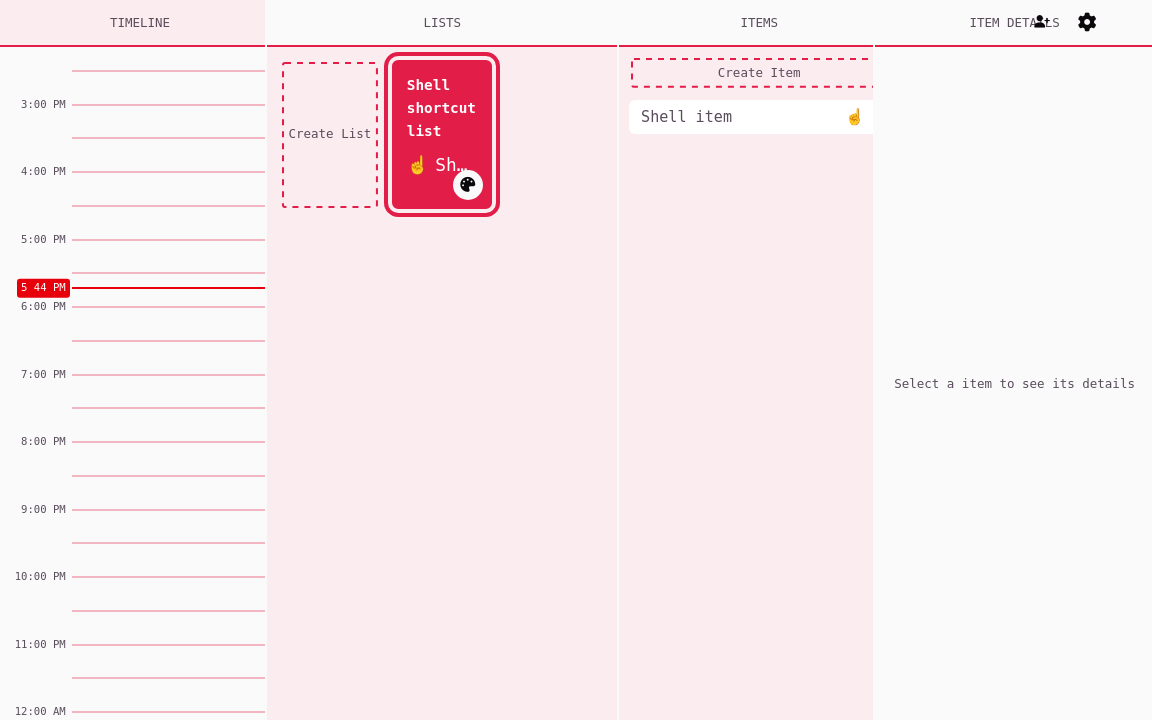
Test case: PlannerShell contextual shortcuts › closes Options when Escape is pressed and restores launcher focus
This screenshot has width=1152, height=720.
(page scrolled)
Click the button named "Options": (1087, 22) [1064,0,1110,45]
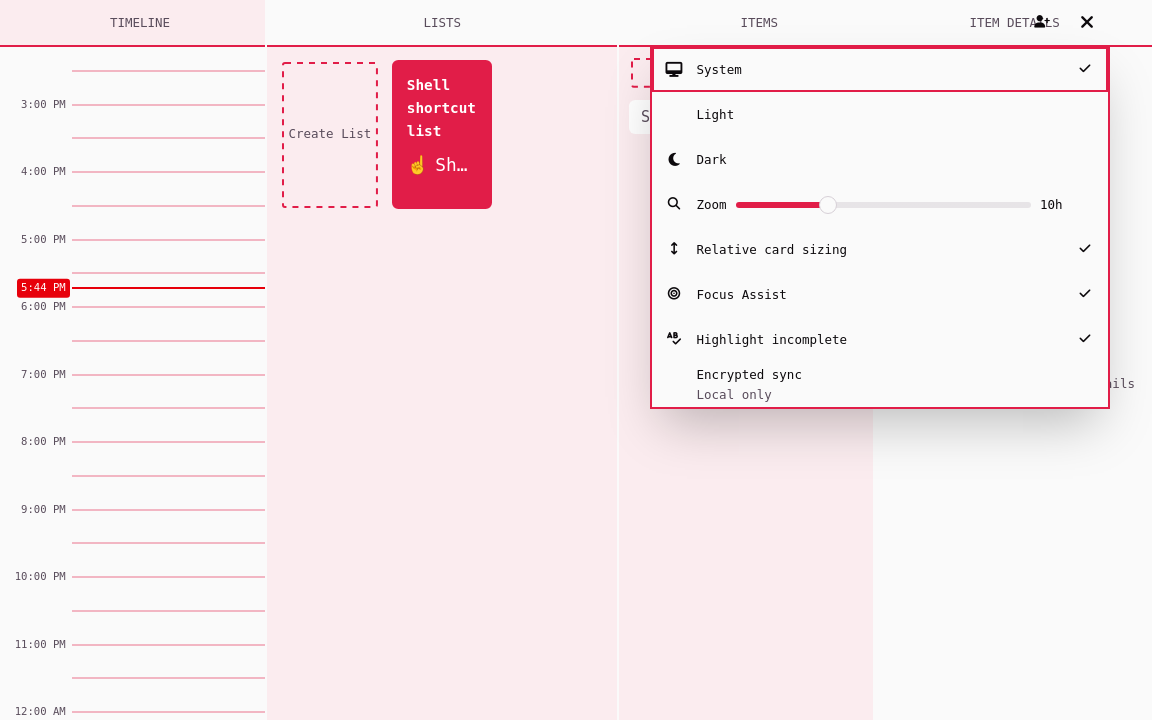
Press Escape
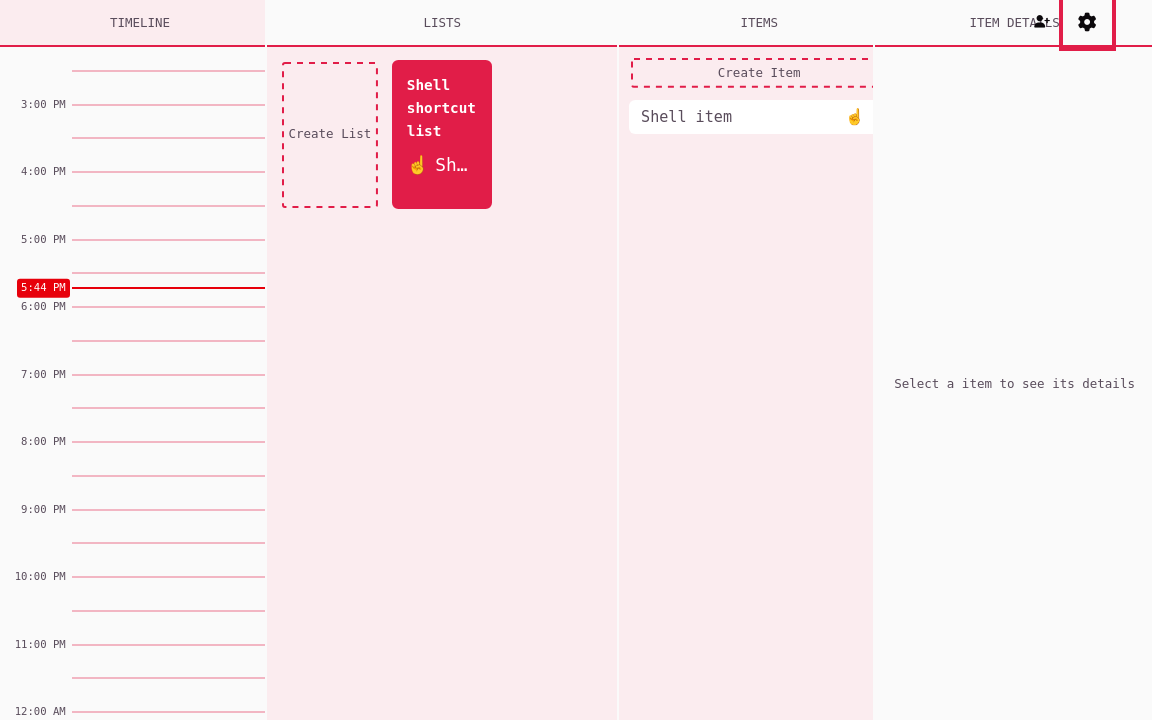
Check: the button named "Options" is collapsed, box [1064,0,1110,45]
